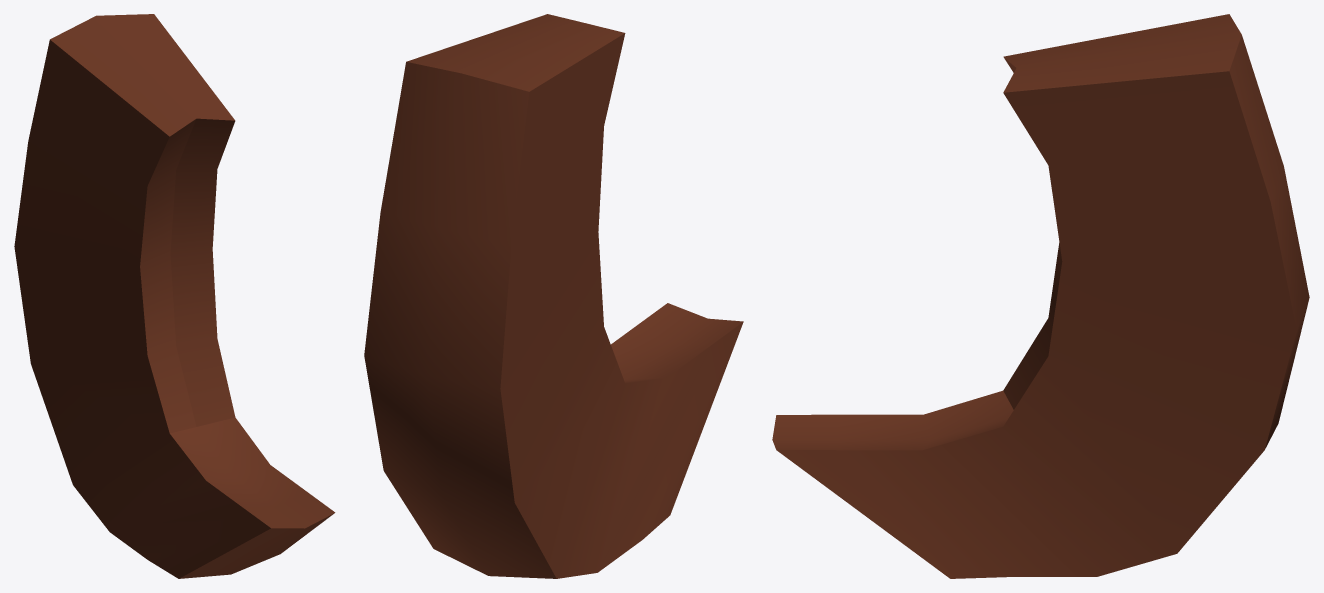
Rendered from Body_010.fbx.
The picture shows the model from 3 angles, left to right: view 1: azimuth 30°, elevation 25°; view 2: azimuth 150°, elevation 25°; view 3: azimuth 270°, elevation 25°; orthographic projection. The views are drawn at different scales.
Visible parts, largest first — view 1: Body.010; view 2: Body.010; view 3: Body.010.
Boxes of the visible parts, x1,y1,x2,y2 form: Body.010: (14,14,335,578); Body.010: (364,14,743,578); Body.010: (772,14,1309,578).
Size of the model in its own units: 29.73 by 114 by 107.
